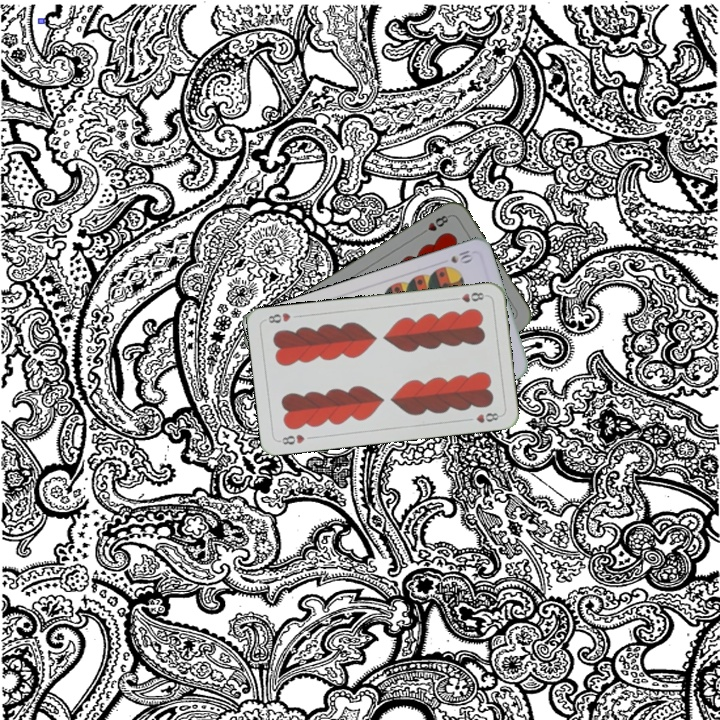H8: (416, 211, 453, 238), (449, 288, 489, 305), (275, 430, 307, 447)
S10: (447, 245, 476, 266)
